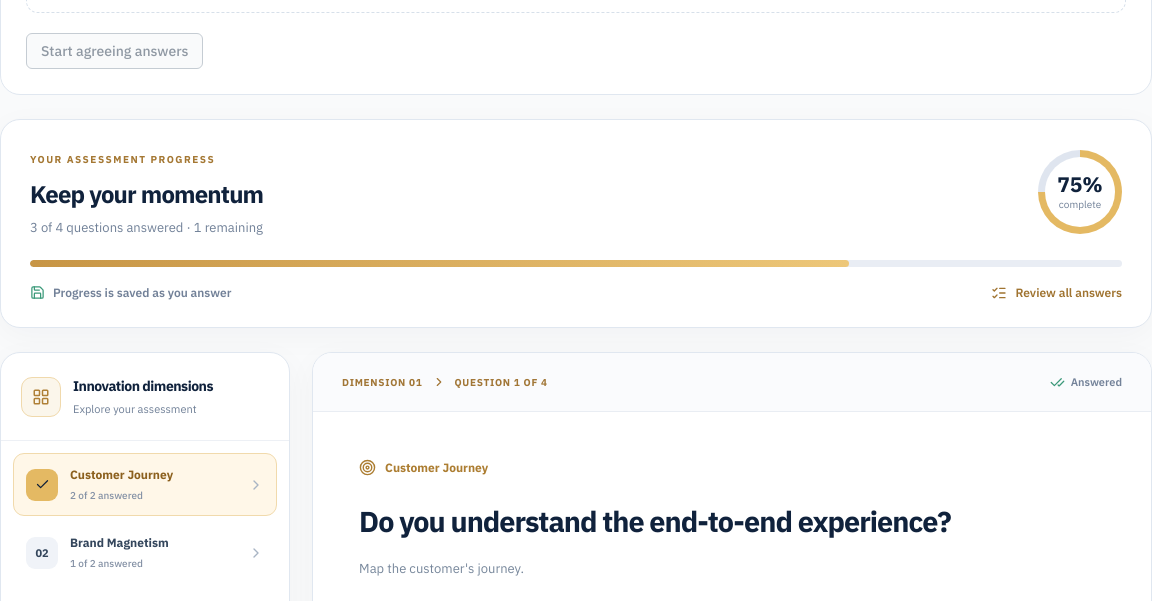
it: QuestionnairePage › stops the submit, and says why, when the last save fails while it waits
(page scrolled)
Step 1. Click the button "Review all answers" → point(1057, 293), box top-left (992, 284), bottom-right (1122, 302)
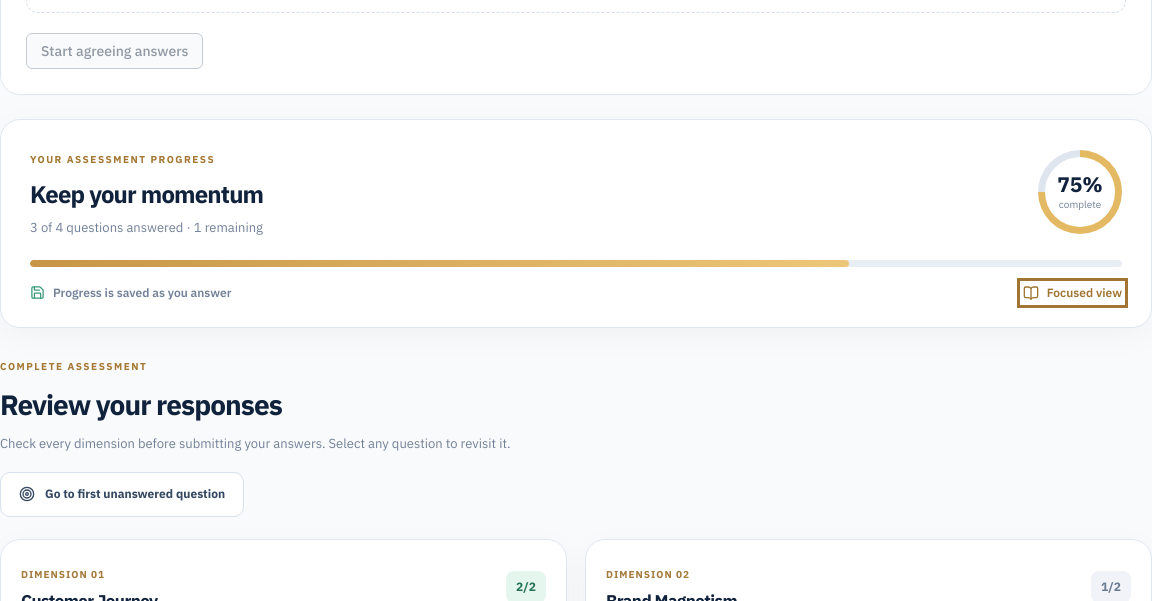
Step 2. Click the button "Go to first unanswered question" → point(122, 494), box top-left (0, 472), bottom-right (244, 517)
(page scrolled)
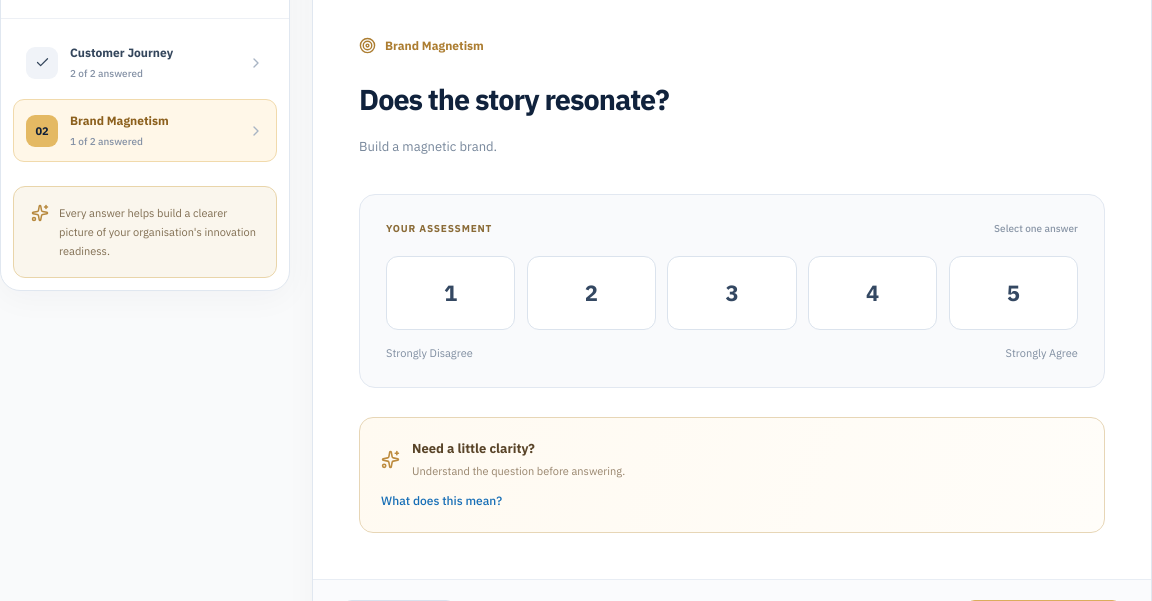
Step 3. Click the radio button labelled "2" → point(591, 293), box top-left (527, 256), bottom-right (656, 330)
(page scrolled)
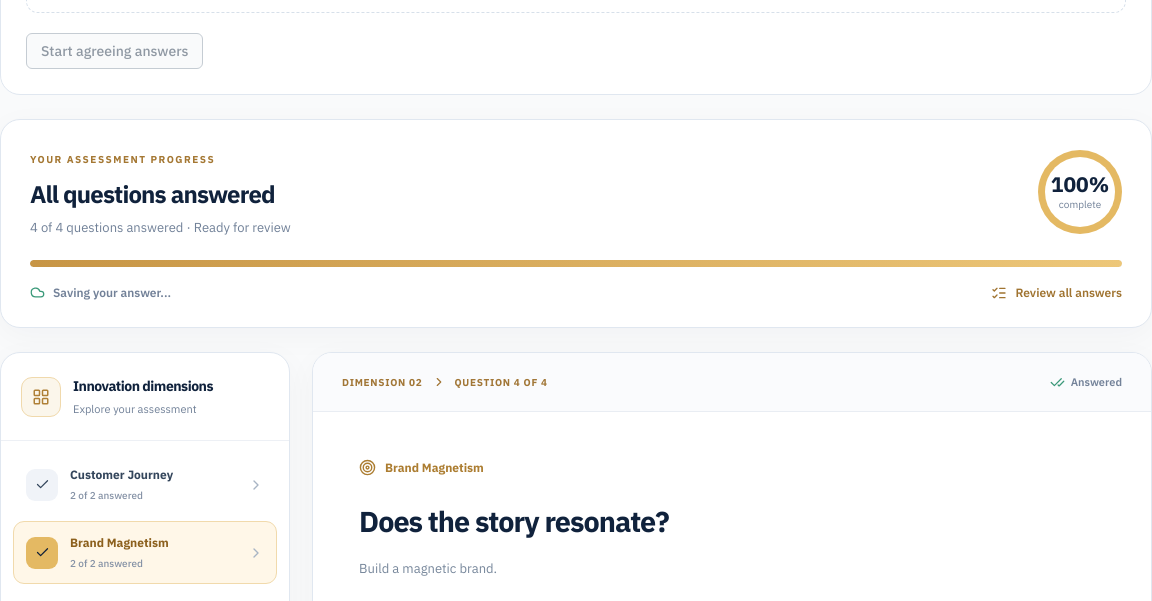
Step 4. Click the button "Review all answers" → point(1057, 293), box top-left (992, 284), bottom-right (1122, 302)
(page scrolled)
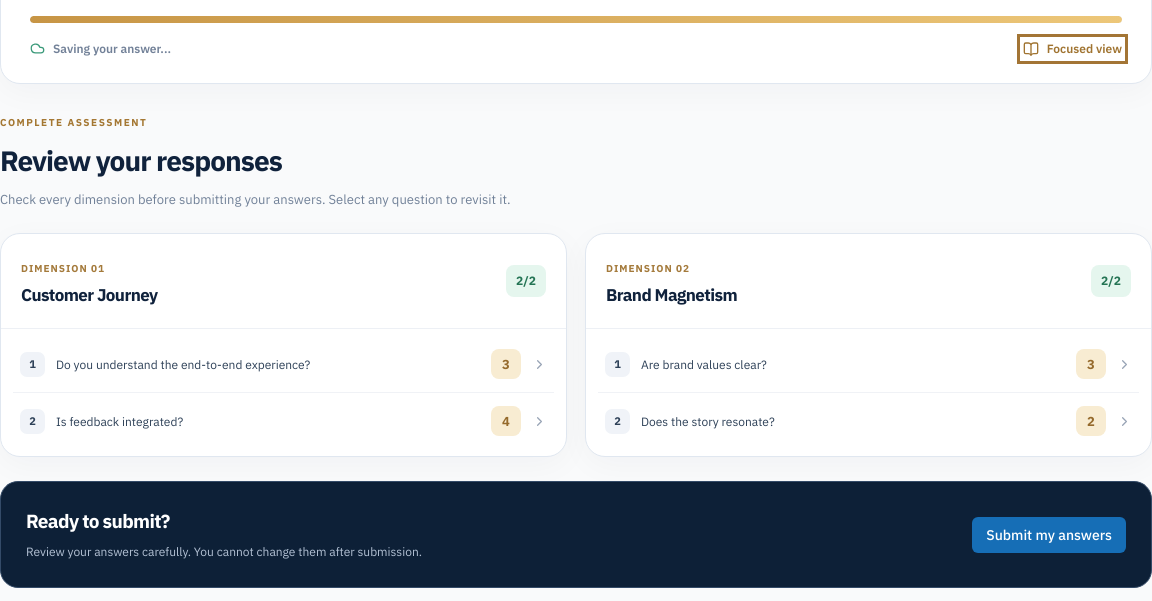
Step 5. Click the button "Submit my answers" → point(1049, 535), box top-left (972, 517), bottom-right (1126, 553)
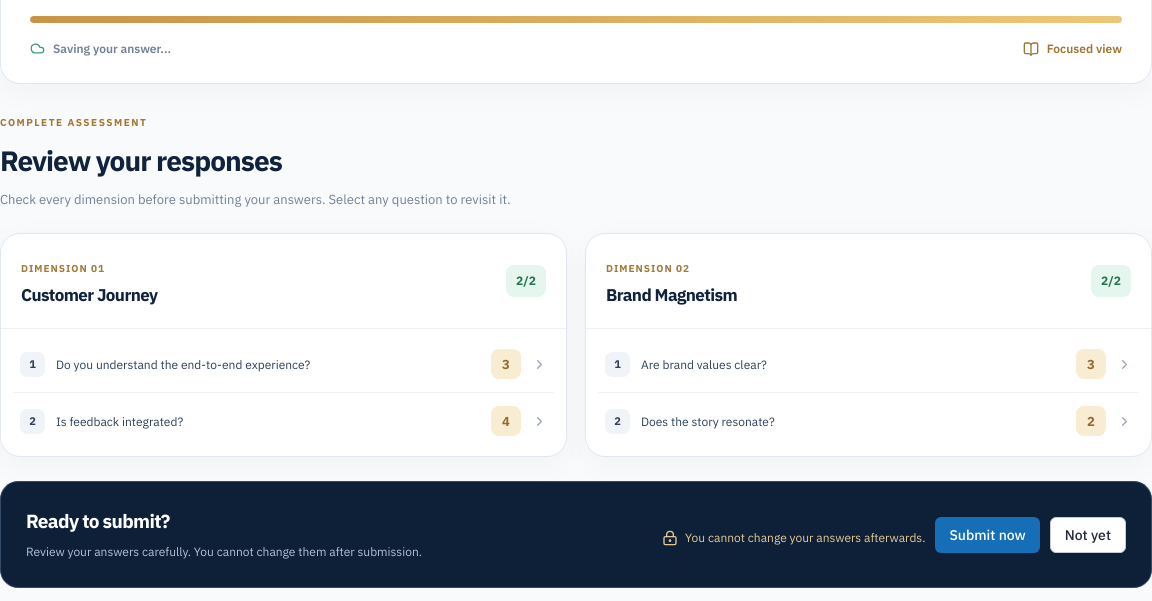
Step 6. Click the button "Submit now" → point(988, 535), box top-left (935, 517), bottom-right (1040, 553)
(page scrolled)
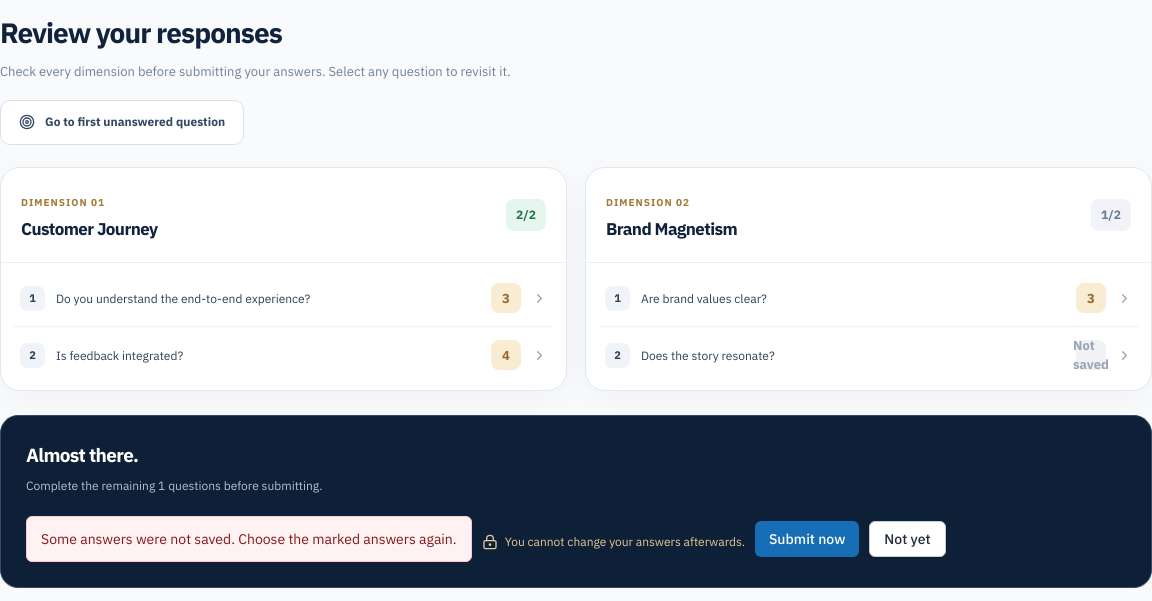
Now the text "Some answers were not saved. Choose the marked answers again." is shown, box top-left (26, 516), bottom-right (472, 562)
